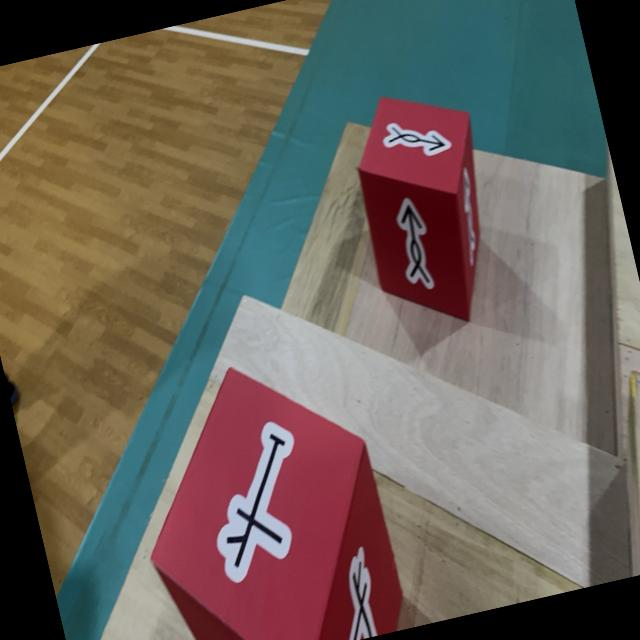12: (390, 194, 440, 298), (376, 106, 455, 170), (449, 170, 488, 269)
9: (191, 415, 323, 586), (328, 544, 385, 640)
fighter: (112, 343, 411, 640), (336, 75, 514, 339)
